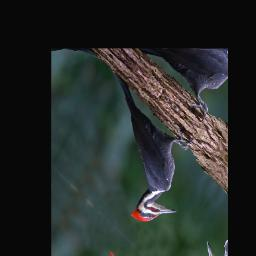Woodpecker: (63, 56, 209, 243)
